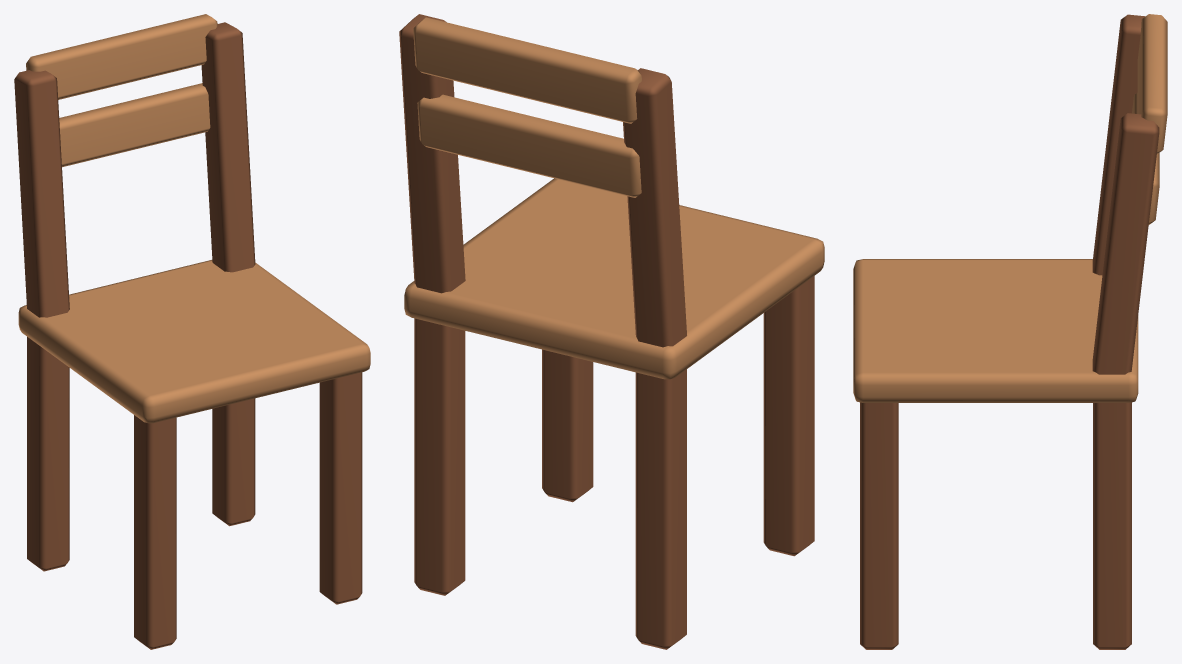
File: chair.glb
3 renders of one model, left to right at view 1: azimuth 30°, elevation 25°; view 2: azimuth 150°, elevation 25°; view 3: azimuth 270°, elevation 25°, orthographic. The views are drawn at different scales.
Visible parts, largest first — view 1: Chair.001; view 2: Chair.001; view 3: Chair.001.
Part boxes in pixels (bbox=[...]): Chair.001: bbox=[14, 14, 370, 649]; Chair.001: bbox=[399, 14, 824, 649]; Chair.001: bbox=[853, 14, 1167, 649].
Bounding box in the file's own units: 0.44 × 0.9108 × 0.485.
